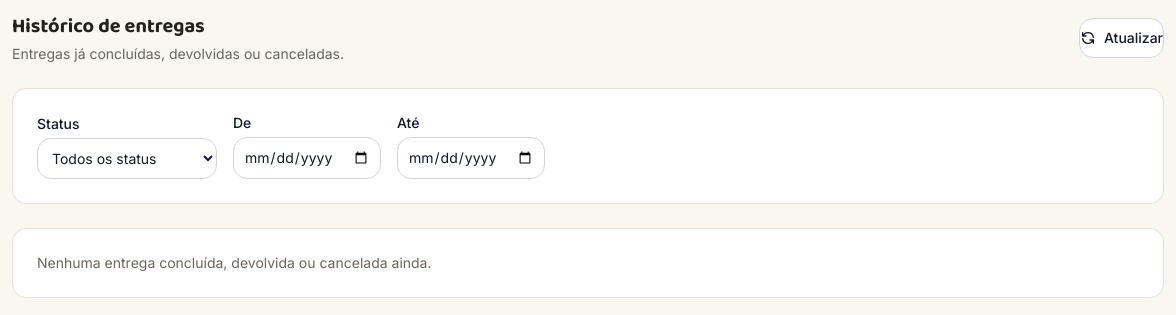
Test: HistoricoPage › mostra "Limpar filtros" só quando algum filtro está ativo, e ele reseta tudo
Expected: the button "limpar filtros" is not shown
Select "Cancelada" in the dropdown labelled "Status" at point(127, 158), box [37,138,217,179]
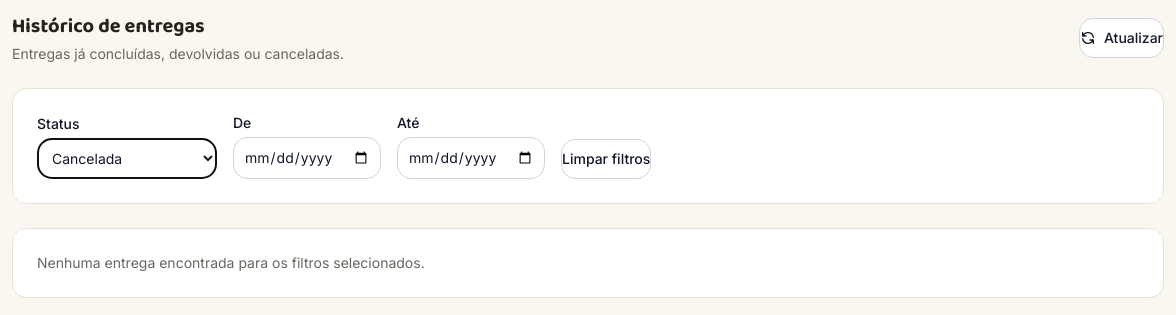
Result: the button "Limpar filtros" is shown
Click the button "Limpar filtros".
click(606, 159)  # box [561,139,651,179]
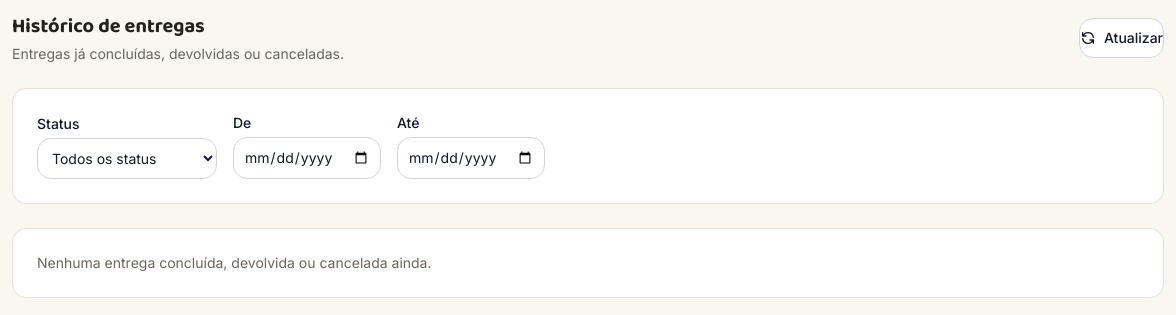
Result: the button "Limpar filtros" is gone
